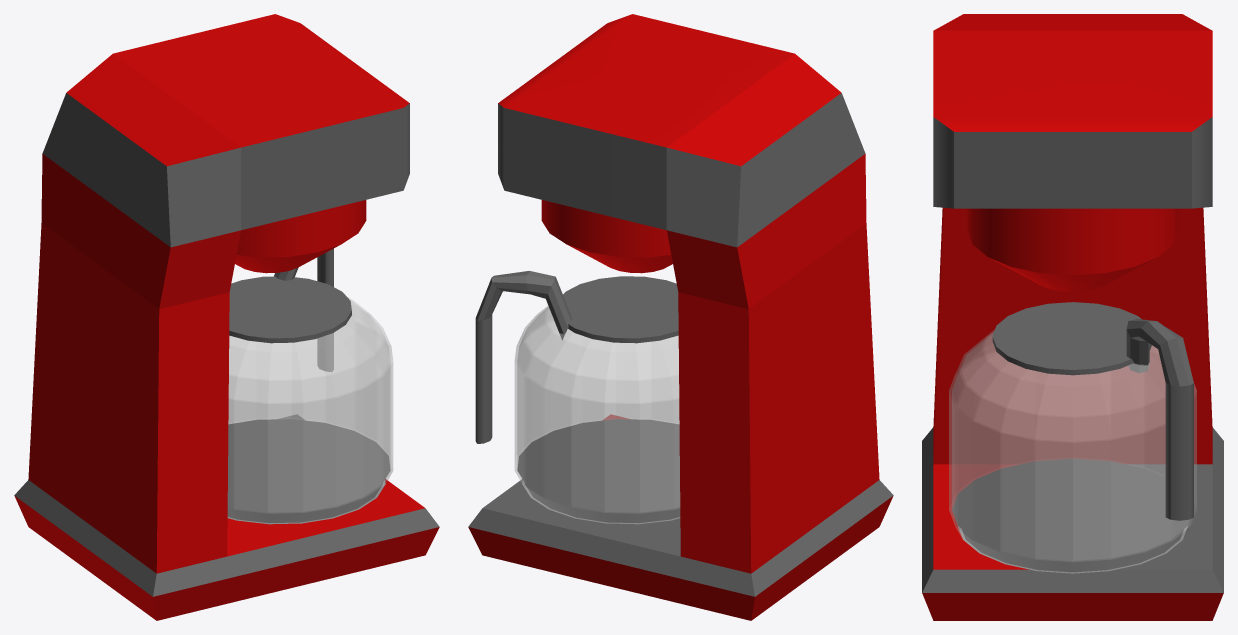
The model's file is coffemachine.fbx.
3 views of the same model, side by side, from view 1: azimuth 30°, elevation 25°; view 2: azimuth 150°, elevation 25°; view 3: azimuth 270°, elevation 25° (orthographic). The views are drawn at different scales.
Parts seen in each view (by area): view 1: pCube1, pCube3, pCylinder3; view 2: pCube1, pCube3, pCylinder3; view 3: pCube1, pCube3, pCylinder3.
Boxes of the visible parts, x1,y1,x2,y2 form: pCube1: (14, 14, 439, 620); pCube3: (227, 248, 392, 524); pCylinder3: (235, 200, 366, 273); pCube1: (468, 14, 893, 620); pCube3: (475, 270, 680, 524); pCylinder3: (541, 200, 672, 273); pCube1: (922, 14, 1223, 620); pCube3: (949, 302, 1196, 573); pCylinder3: (967, 208, 1178, 292).
Size of the model in its own units: 1.34 by 1.95 by 1.08.
